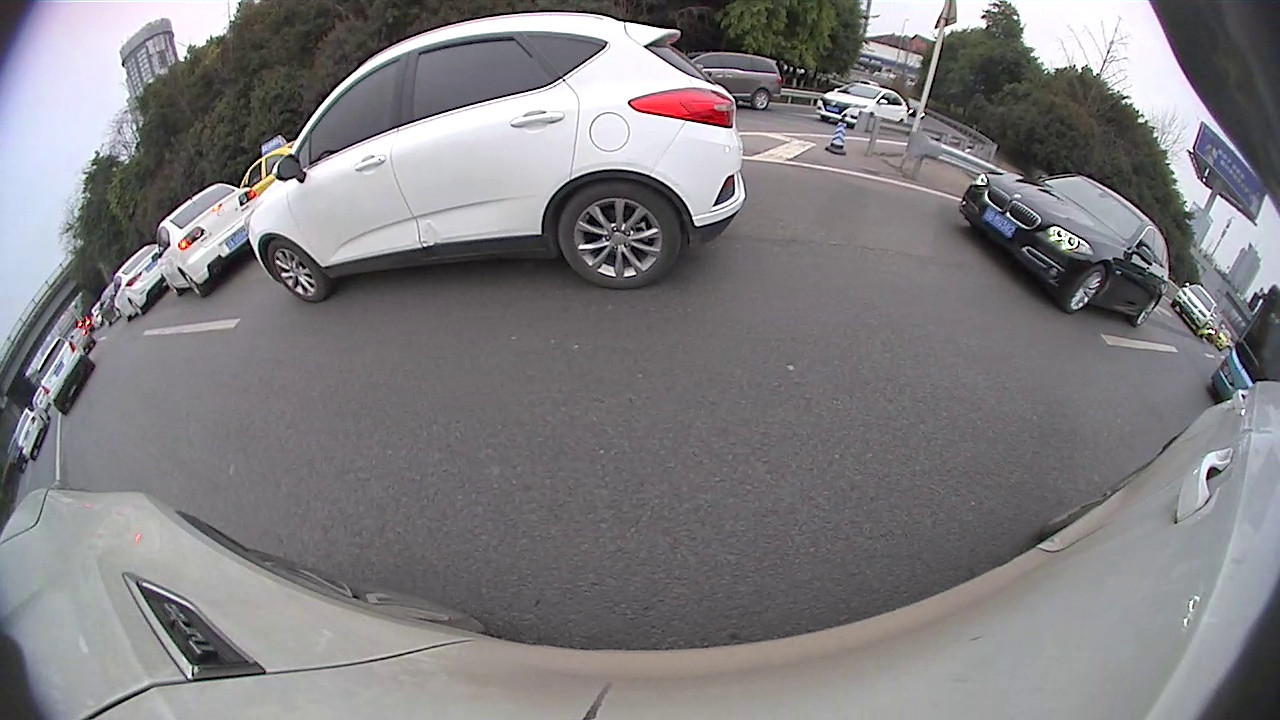car: (248, 10, 747, 304), (955, 168, 1169, 329), (151, 183, 258, 299), (687, 50, 787, 111), (29, 331, 98, 416), (107, 239, 170, 324), (813, 81, 912, 129), (1174, 280, 1223, 338), (10, 395, 51, 464)
front: (266, 236, 332, 305), (1061, 260, 1110, 316)
rear: (558, 178, 685, 291), (1130, 291, 1162, 331), (183, 268, 206, 299), (751, 88, 771, 112)
